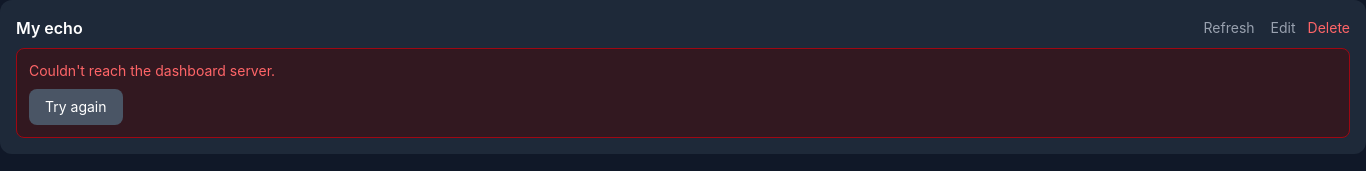
Scenario: a first load that fails › an unreachable server: the network message and Try again
Check: the message shows "Couldn't reach the dashboard server.", box [29,62,275,79]
Click the button "Try again": {"x": 76, "y": 107} [29,89,122,125]
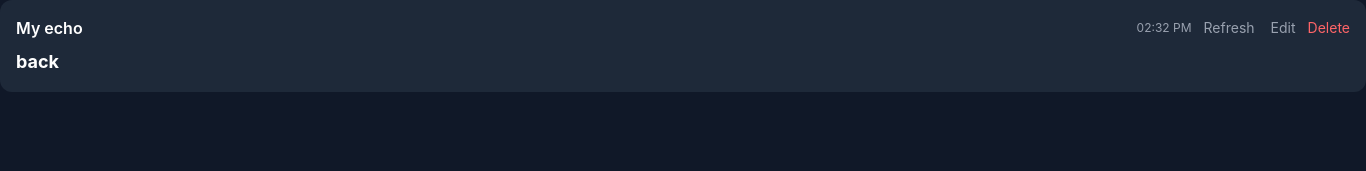
Check: the text "back" is shown, box [16,51,59,72]
